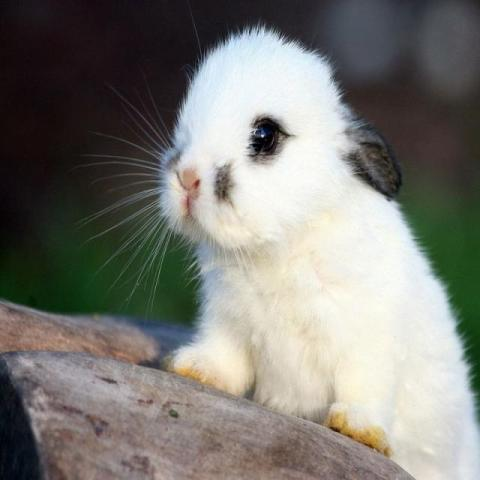small_animal: (151, 22, 478, 478)
